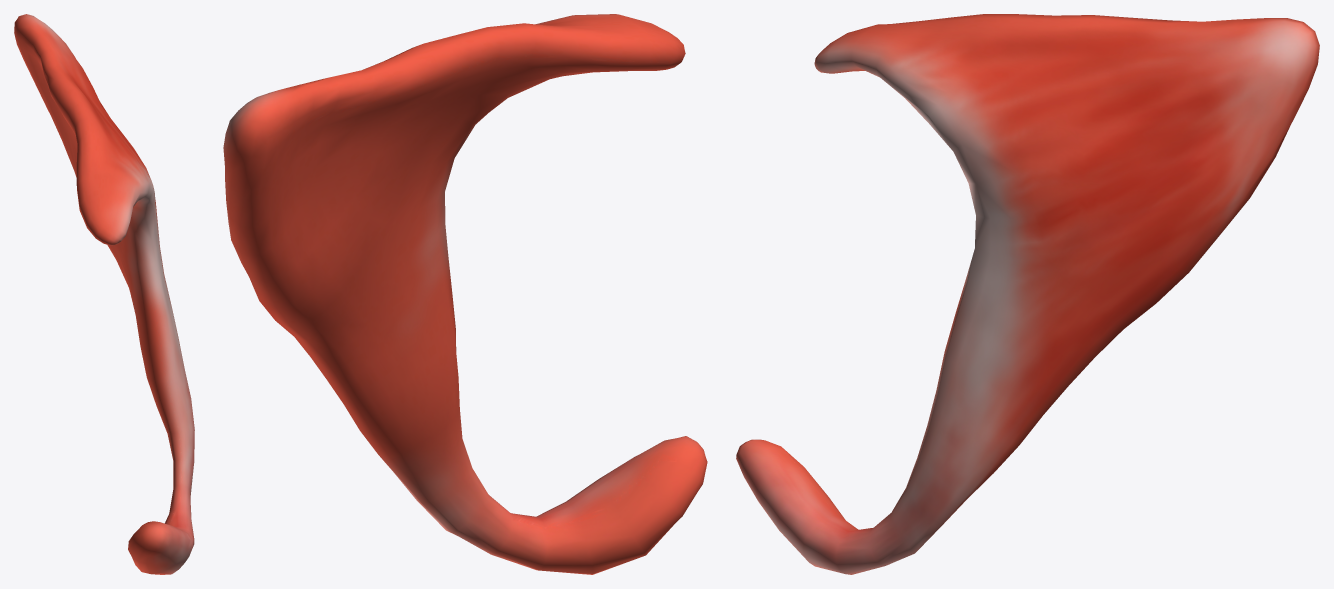
The model's file is Levator Annuli Oris Fascialis.glb.
The picture shows the model from 3 angles, left to right: view 1: azimuth 30°, elevation 25°; view 2: azimuth 150°, elevation 25°; view 3: azimuth 270°, elevation 25°; orthographic projection. The views are drawn at different scales.
Visible parts, largest first — view 1: Levator annuli oris fascialis.glb; view 2: Levator annuli oris fascialis.glb; view 3: Levator annuli oris fascialis.glb.
Part boxes in pixels (left/top/right/bottom): Levator annuli oris fascialis.glb: left=14, top=14, right=194, bottom=574; Levator annuli oris fascialis.glb: left=223, top=14, right=707, bottom=574; Levator annuli oris fascialis.glb: left=736, top=14, right=1319, bottom=574.
Bounding box in the file's own units: 0.048 × 0.1278 × 0.1186.
Materials: 1 (1 with a texture image).
